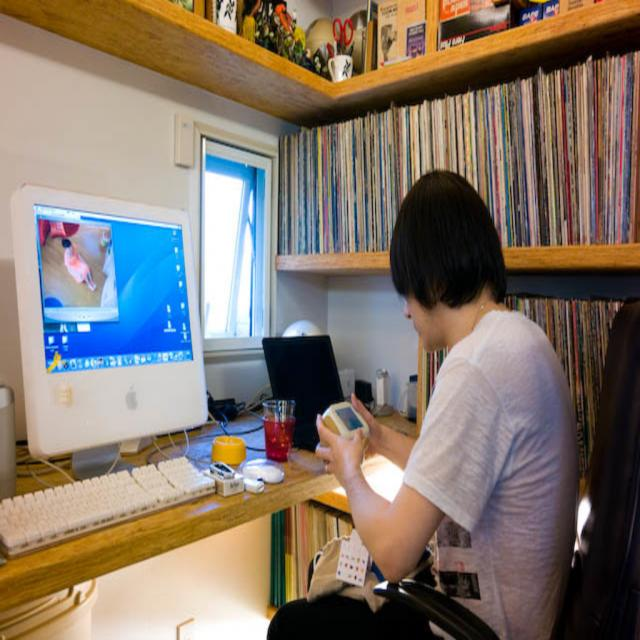chair: (557, 300, 640, 635)
desk: (0, 421, 416, 639)
keyboard: (0, 455, 215, 558)
laptop: (262, 335, 366, 451)
mouse: (240, 460, 286, 484)
person: (279, 168, 574, 639)
tv: (12, 185, 208, 460)
